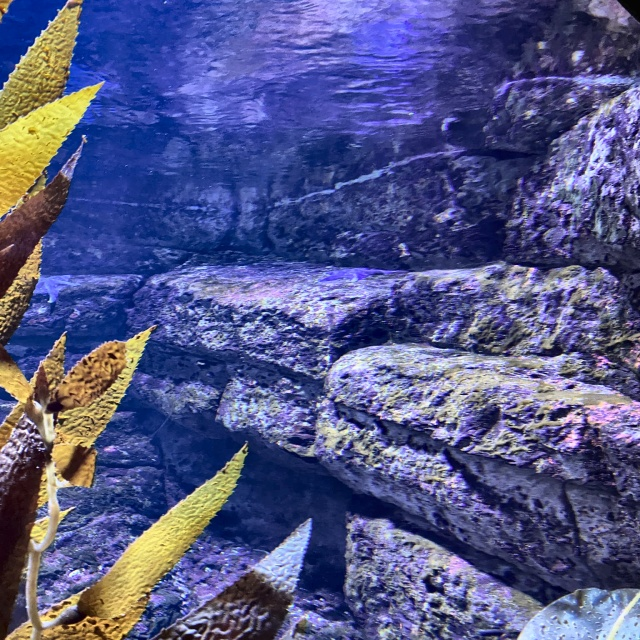starfish: (25, 272, 78, 307), (315, 261, 386, 284)
